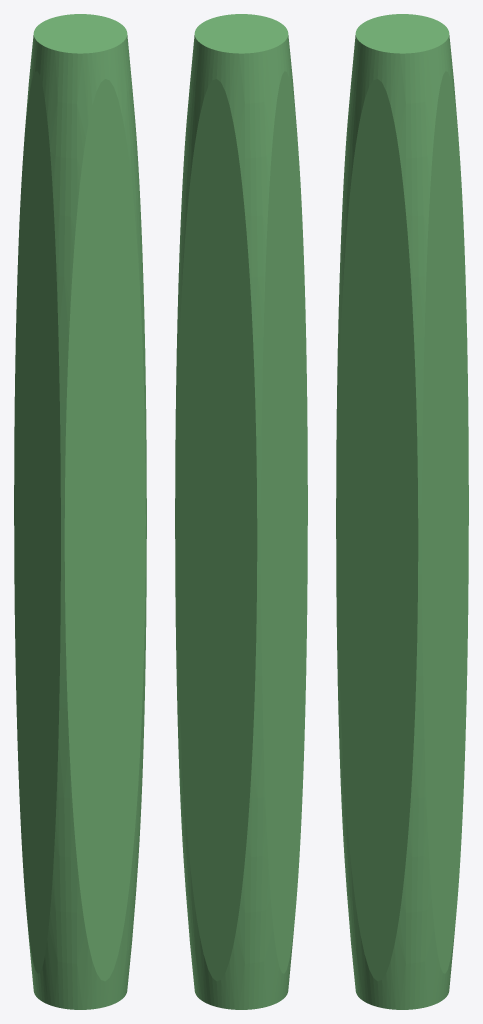
The model's file is power-strip-green.glb.
3 renders of one model, left to right at view 1: azimuth 30°, elevation 25°; view 2: azimuth 150°, elevation 25°; view 3: azimuth 330°, elevation 25°, orthographic.
Parts seen in each view (by area): view 1: Mesh_Mesh_head_geo.001_lambert2SG.001; view 2: Mesh_Mesh_head_geo.001_lambert2SG.001; view 3: Mesh_Mesh_head_geo.001_lambert2SG.001.
Part boxes in pixels (x1,y1,x2,y2): Mesh_Mesh_head_geo.001_lambert2SG.001: (14,14,146,1009); Mesh_Mesh_head_geo.001_lambert2SG.001: (175,14,307,1009); Mesh_Mesh_head_geo.001_lambert2SG.001: (336,14,468,1009).
Size of the model in its own units: 11 by 117 by 11.
